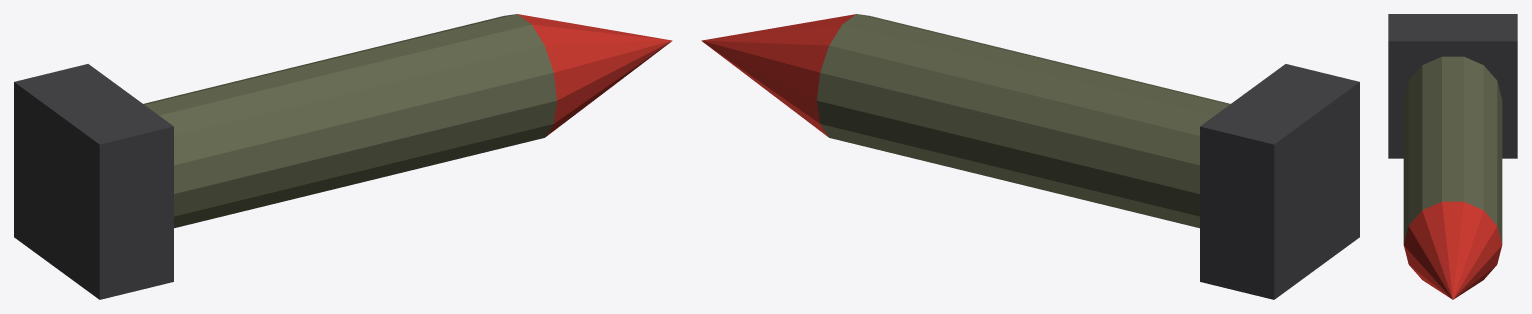
File: SM_Proj_Rocket.fbx
3 renders of one model, left to right at view 1: azimuth 30°, elevation 25°; view 2: azimuth 150°, elevation 25°; view 3: azimuth 270°, elevation 25°, orthographic. The views are drawn at different scales.
Visible parts, largest first — view 1: SM_Proj_Rocket; view 2: SM_Proj_Rocket; view 3: SM_Proj_Rocket.
Part boxes in pixels (x1,y1,x2,y2): SM_Proj_Rocket: (14, 14, 672, 299); SM_Proj_Rocket: (701, 14, 1359, 299); SM_Proj_Rocket: (1388, 14, 1517, 299).
Bounding box in the file's own units: 41.5 × 10 × 10.
